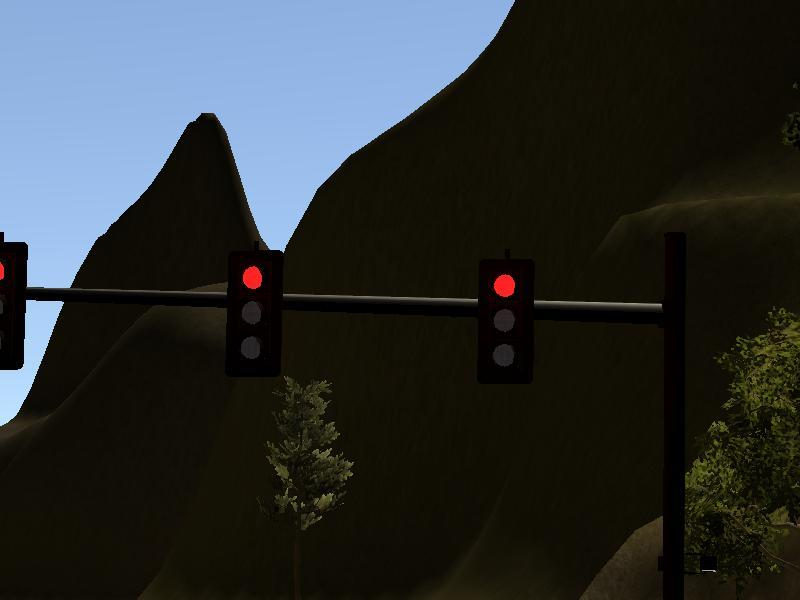Red: (225, 250, 283, 376), (477, 258, 533, 385)
